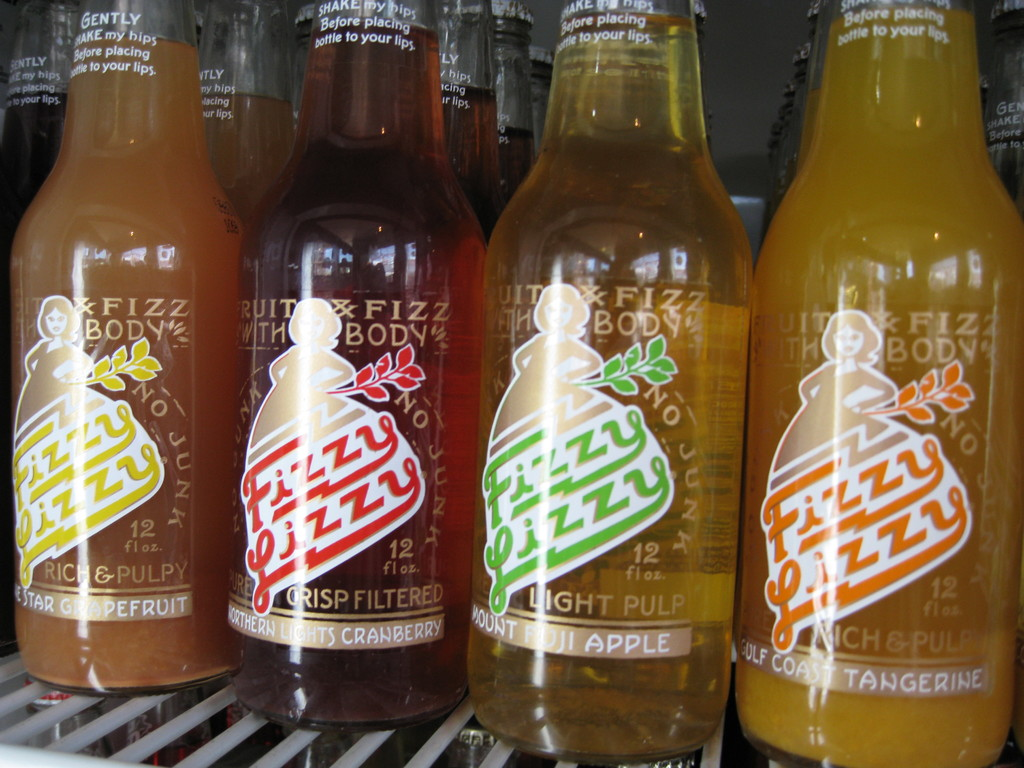Beer: (484, 0, 769, 767), (762, 3, 1023, 759), (233, 0, 479, 728), (0, 0, 233, 726)
